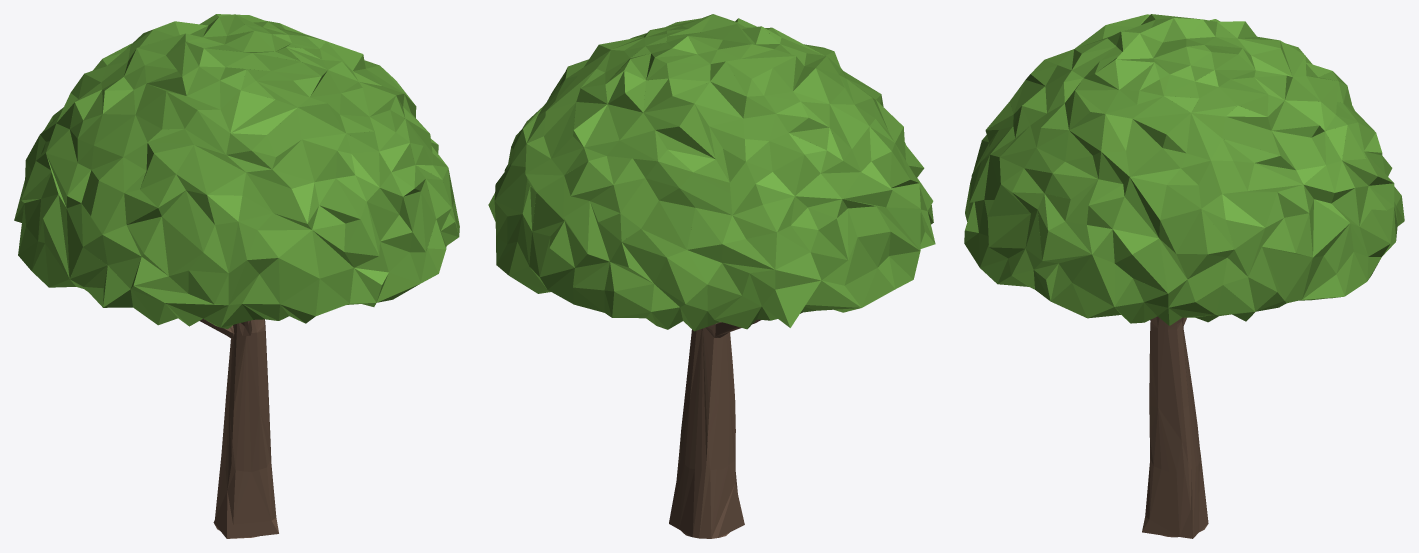
The model's file is tree3a.glb.
The picture shows the model from 3 angles, left to right: view 1: azimuth 30°, elevation 25°; view 2: azimuth 150°, elevation 25°; view 3: azimuth 270°, elevation 25°; orthographic projection.
Parts seen in each view (by area): view 1: tree_00105; view 2: tree_00105; view 3: tree_00105.
Part boxes in pixels (x1=…): tree_00105: x1=14, y1=14, x2=459, y2=538; tree_00105: x1=488, y1=14, x2=935, y2=538; tree_00105: x1=964, y1=14, x2=1404, y2=538.
Bounding box in the file's own units: 2.35 × 2.84 × 2.33.
